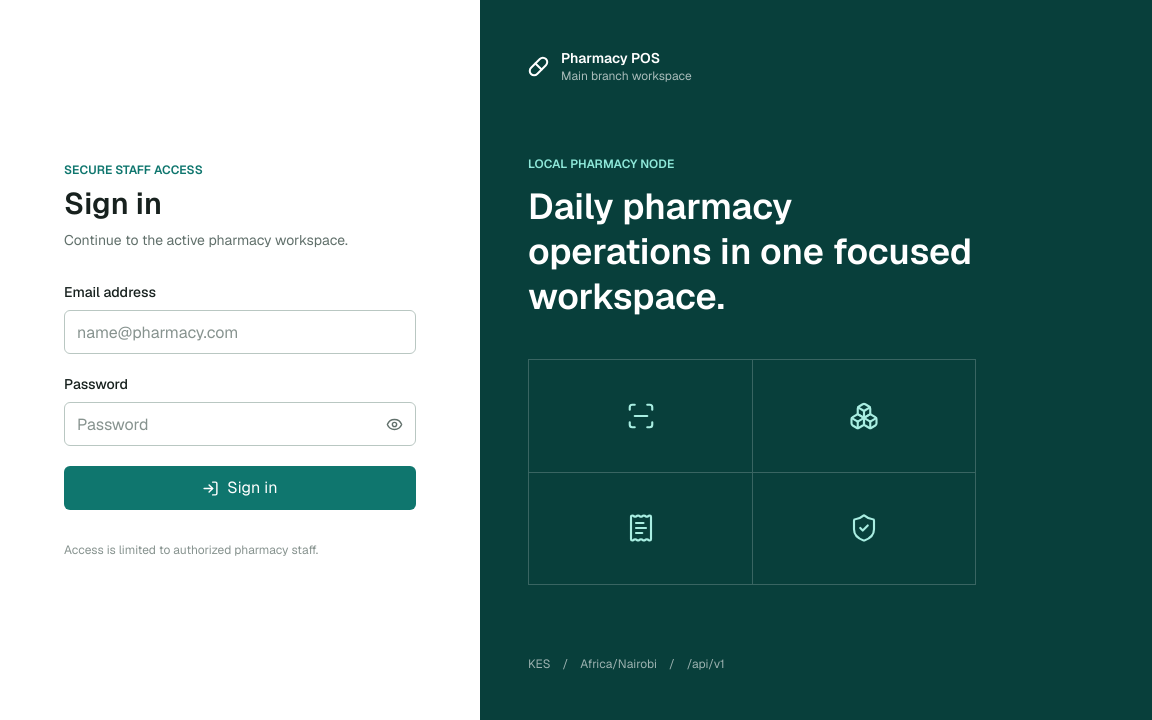
Test: LoginScreen › toggles password visibility without changing the entered value
Step 1. Type "securepass" into the password field labelled "Password" → {"x": 240, "y": 424}, box [64, 402, 416, 446]
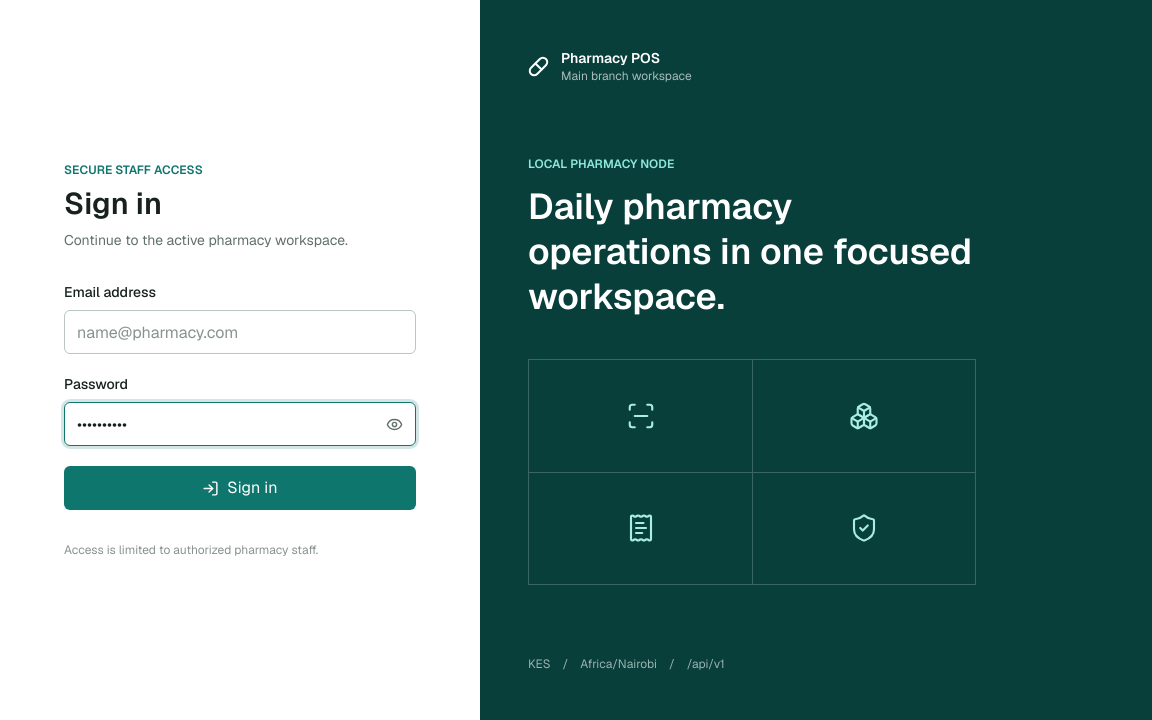
Step 2. Click the button named "Show password" → {"x": 394, "y": 424}, box [376, 406, 412, 442]
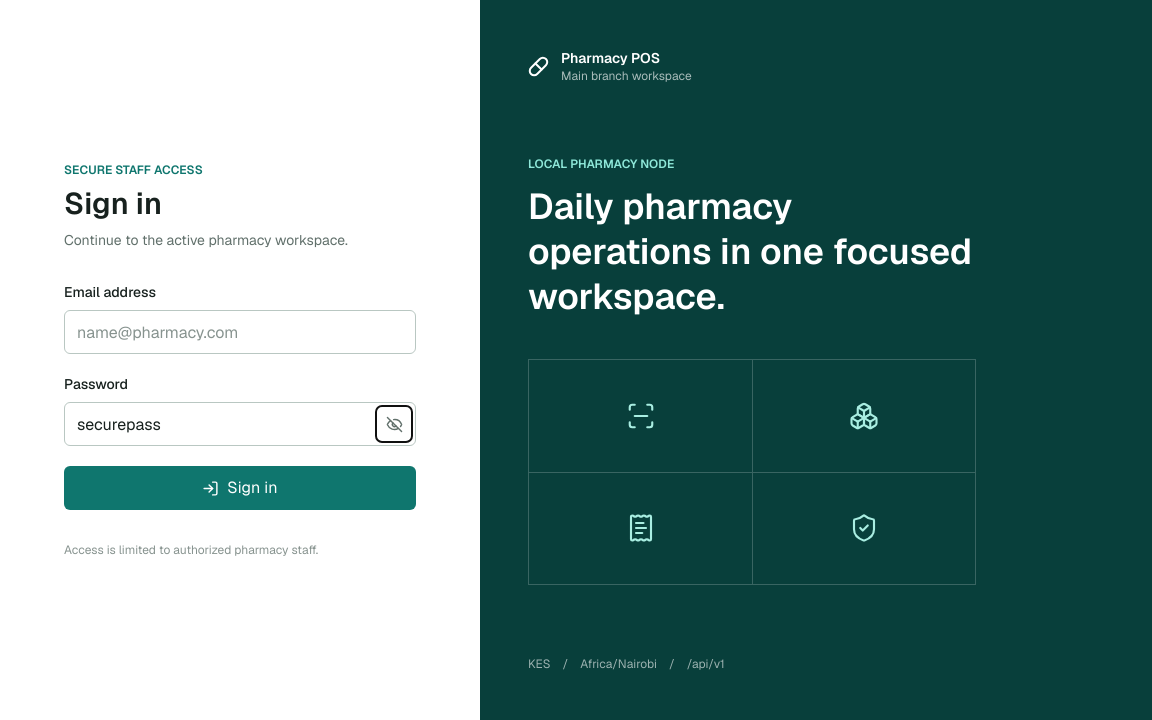
Expected: the field labelled "Password" shows its text, [64, 402, 416, 446]
Expected: the button named "Hide password" is shown, [376, 406, 412, 442]
